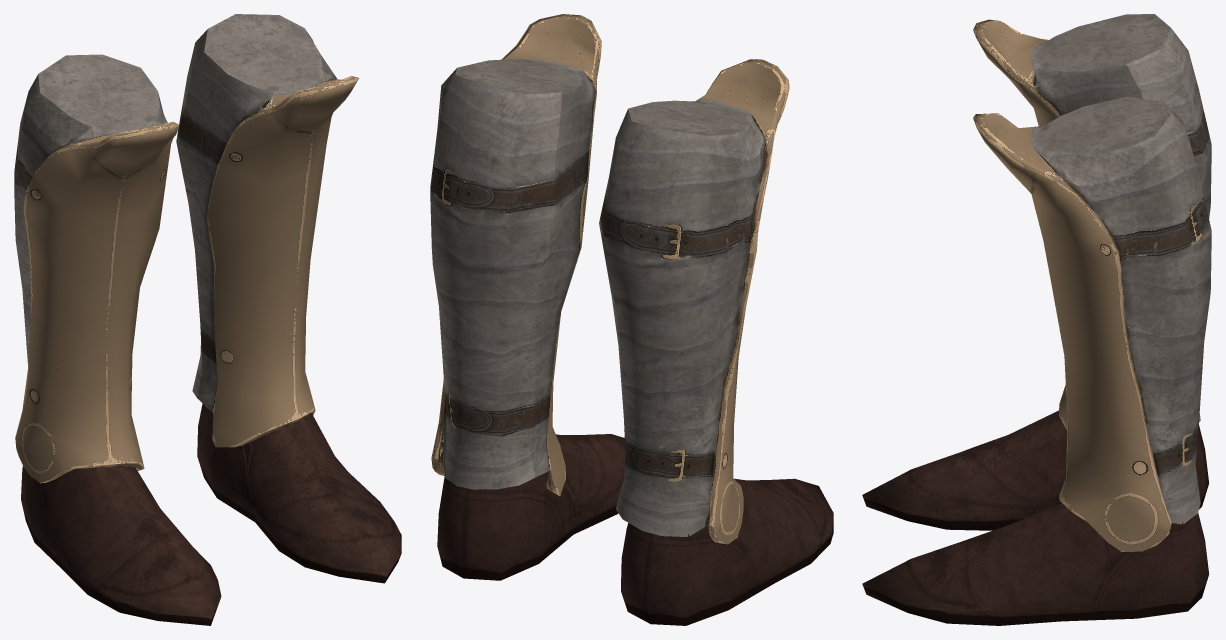
File: Greaves_Mirror.obj
The picture shows the model from 3 angles, left to right: view 1: azimuth 30°, elevation 25°; view 2: azimuth 150°, elevation 25°; view 3: azimuth 270°, elevation 25°; orthographic projection. The views are drawn at different scales.
Parts seen in each view (by area): view 1: Greaves_low, Shoe_low; view 2: Greaves_low, Shoe_low; view 3: Greaves_low, Shoe_low.
Part boxes in pixels (x1=…): Greaves_low: x1=14, y1=14, x2=359, y2=483; Shoe_low: x1=21, y1=403, x2=401, y2=625; Greaves_low: x1=430, y1=14, x2=789, y2=544; Shoe_low: x1=437, y1=434, x2=833, y2=625; Greaves_low: x1=973, y1=14, x2=1211, y2=551; Shoe_low: x1=862, y1=410, x2=1209, y2=625.
Size of the model in its own units: 0.3736 by 0.5451 by 0.3584.
1 material, 1 textured.
